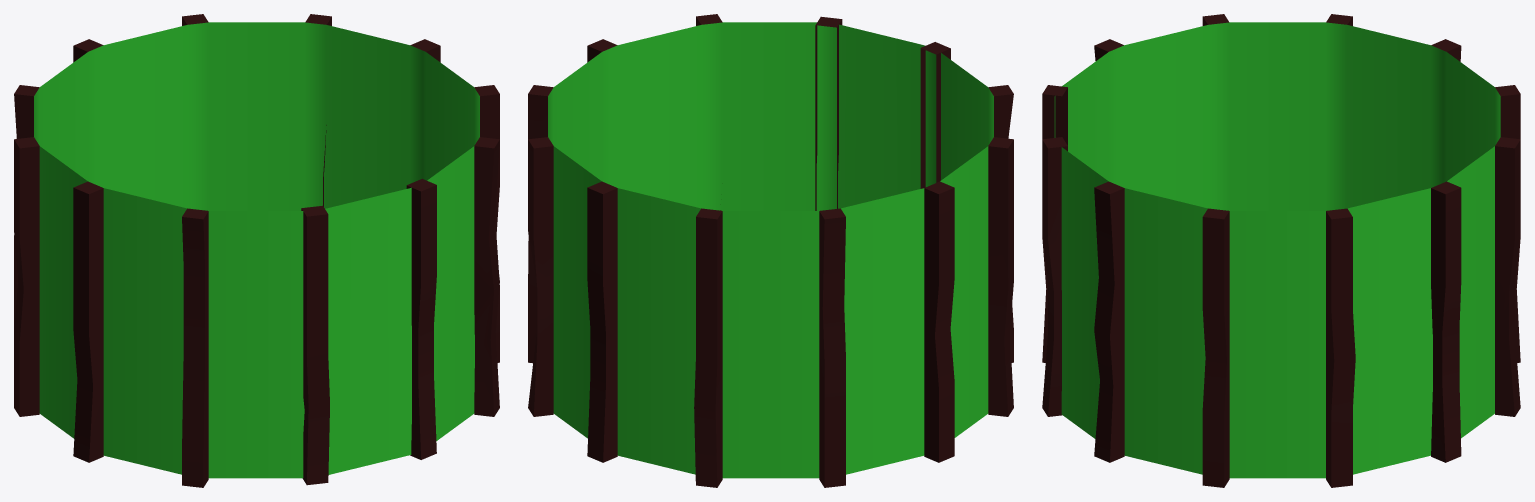
Rendered from TowerWalls_02.fbx.
The picture shows the model from 3 angles, left to right: view 1: azimuth 30°, elevation 25°; view 2: azimuth 150°, elevation 25°; view 3: azimuth 270°, elevation 25°; orthographic projection.
Parts seen in each view (by area): view 1: TowerWalls_02; view 2: TowerWalls_02; view 3: TowerWalls_02.
Part boxes in pixels (x1=…): TowerWalls_02: x1=14, y1=14, x2=499, y2=487; TowerWalls_02: x1=528, y1=14, x2=1013, y2=487; TowerWalls_02: x1=1042, y1=14, x2=1520, y2=487.
Bounding box in the file's own units: 836 × 510 × 823.
